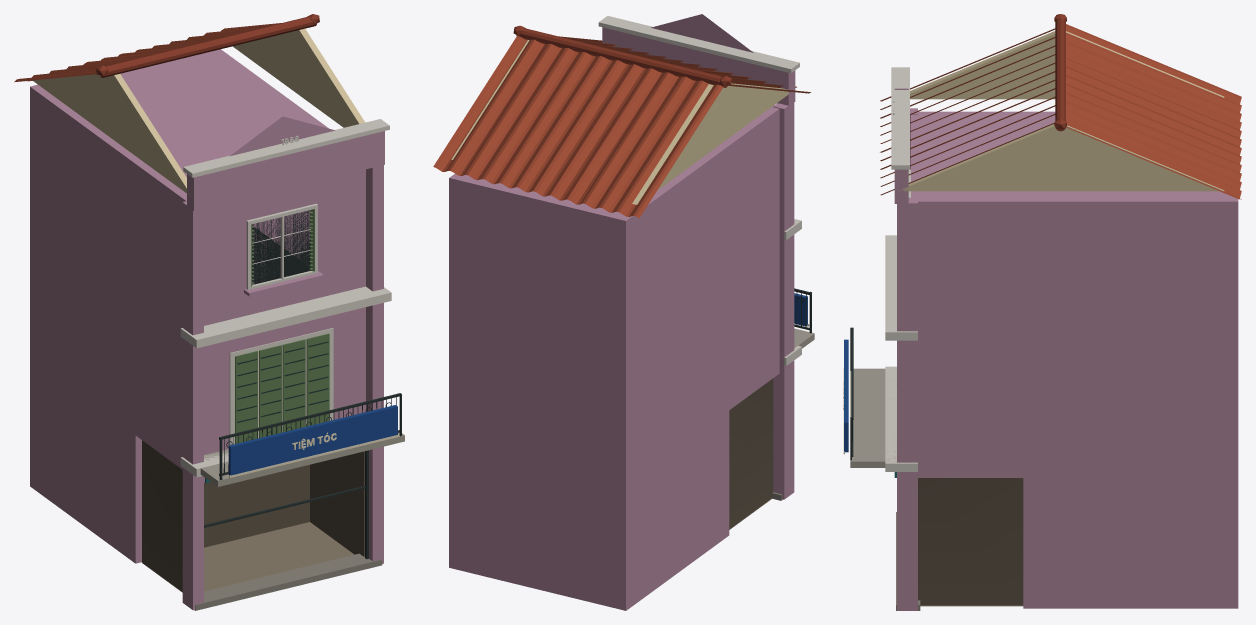
Rendered from nha_K.glb.
3 renders of one model, left to right at view 1: azimuth 30°, elevation 25°; view 2: azimuth 150°, elevation 25°; view 3: azimuth 270°, elevation 25°, orthographic. The views are drawn at different scales.
Parts seen in each view (by area): view 1: nha_K; view 2: nha_K; view 3: nha_K.
Part boxes in pixels (x1,y1,x2,y2): nha_K: (14,14,404,610); nha_K: (433,14,814,610); nha_K: (843,14,1241,610).
Size of the model in its own units: 5.59 by 11.75 by 8.52.
